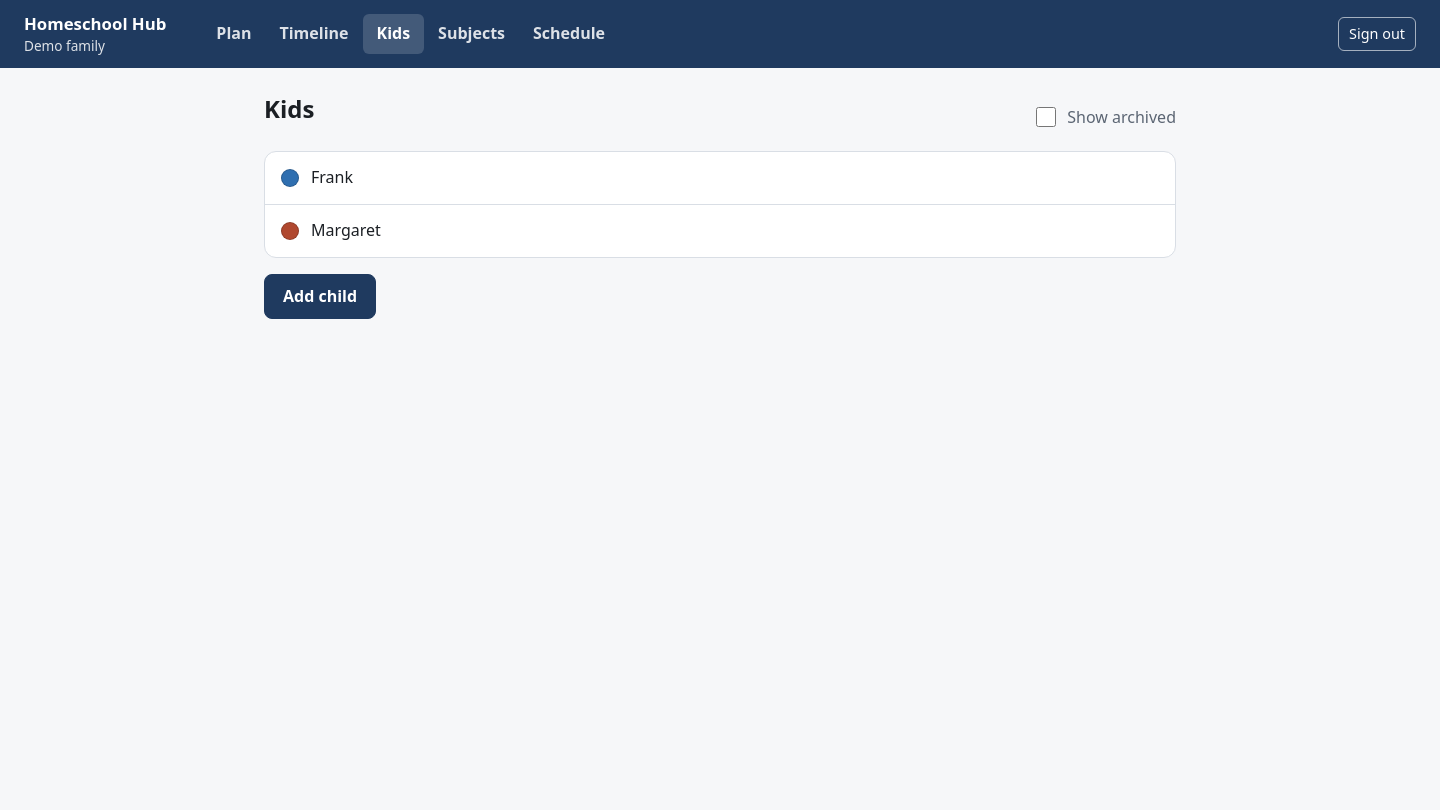
Test: Edit child › an archive failure is shown in the dialog and nothing changes
Expected: the list named "Kids" is shown, [264, 151, 1176, 258]
Click the button "Frank": (332, 177) [265, 152, 1175, 204]
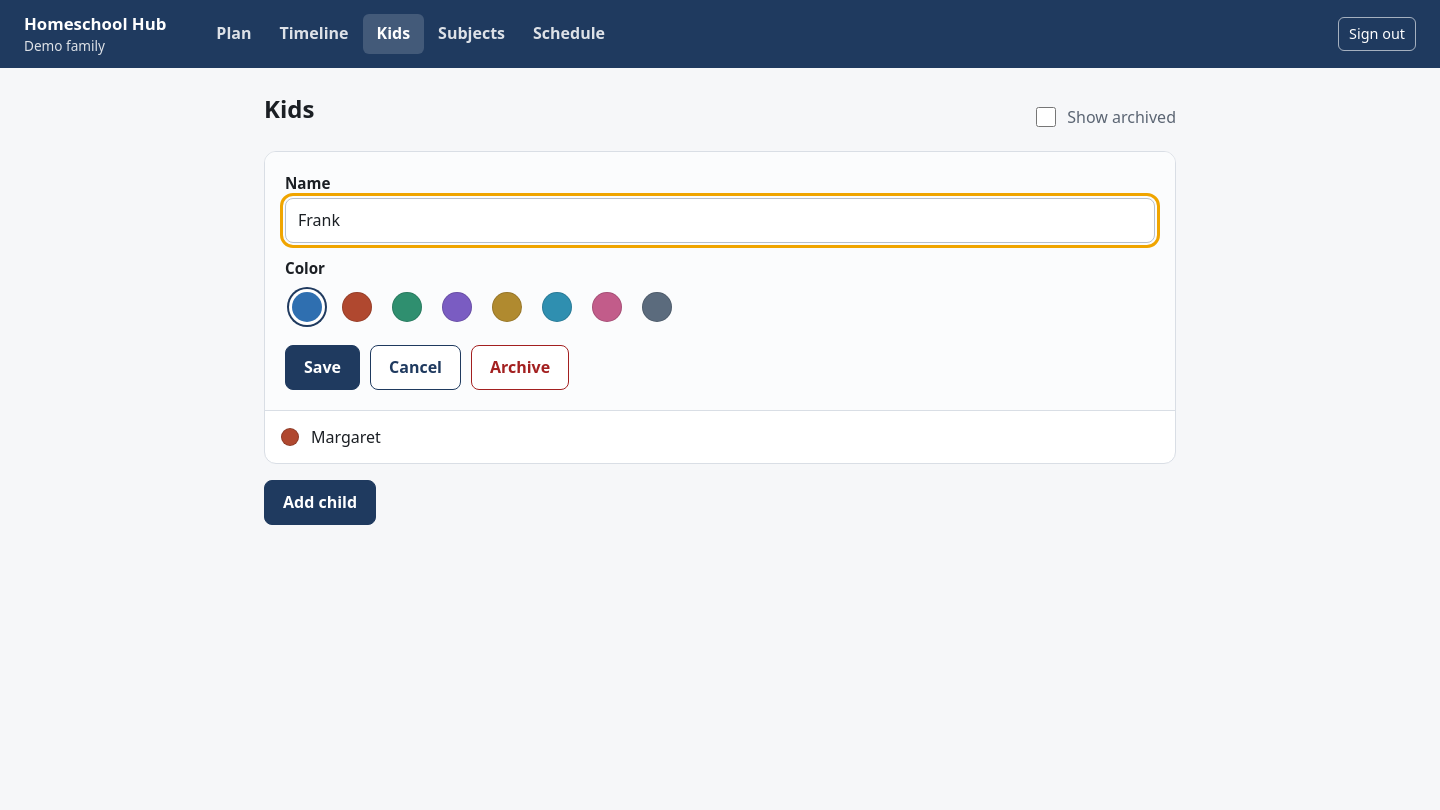
Click the button "Archive": (520, 368) [471, 345, 569, 390]
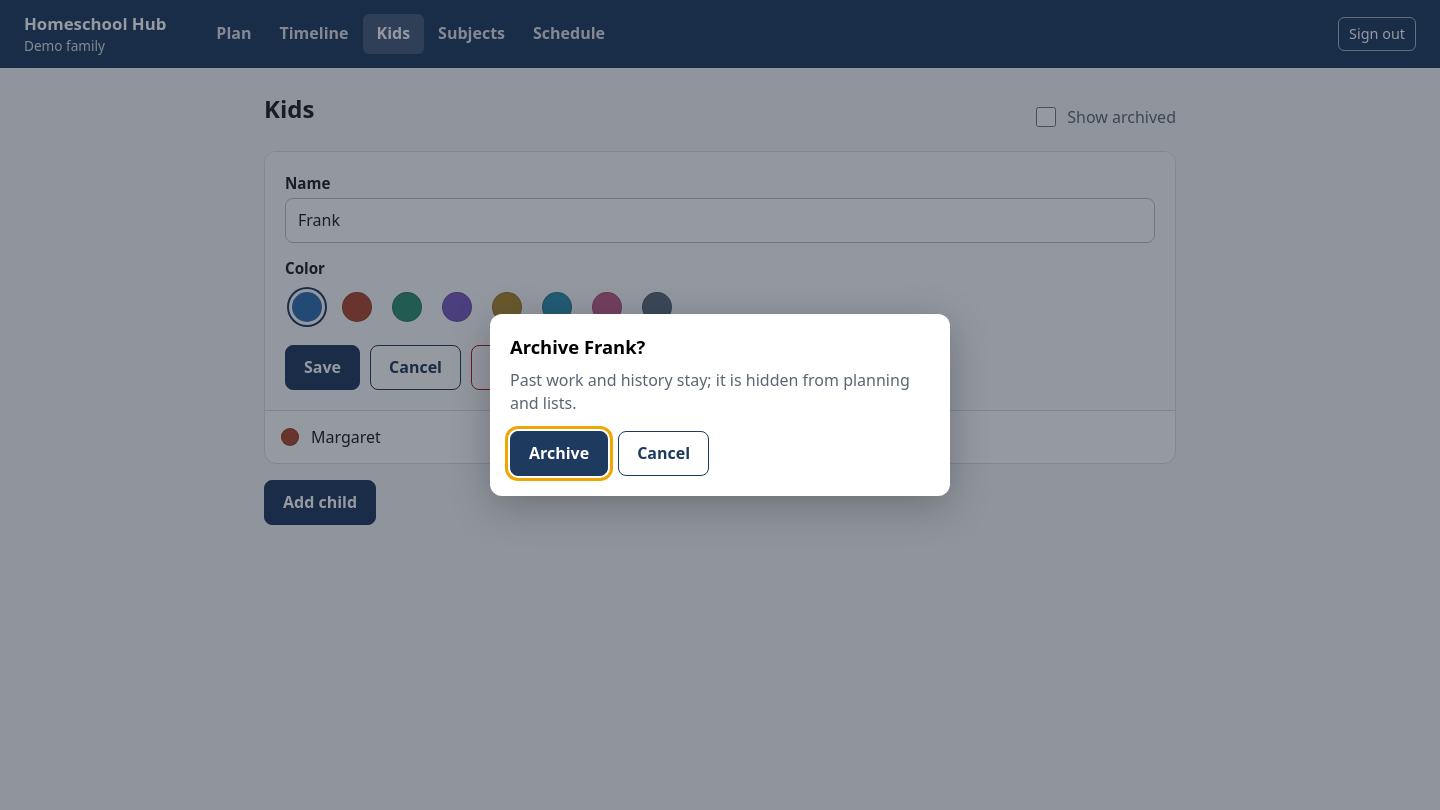
Click the button "Archive": (559, 454) [510, 431, 608, 476]
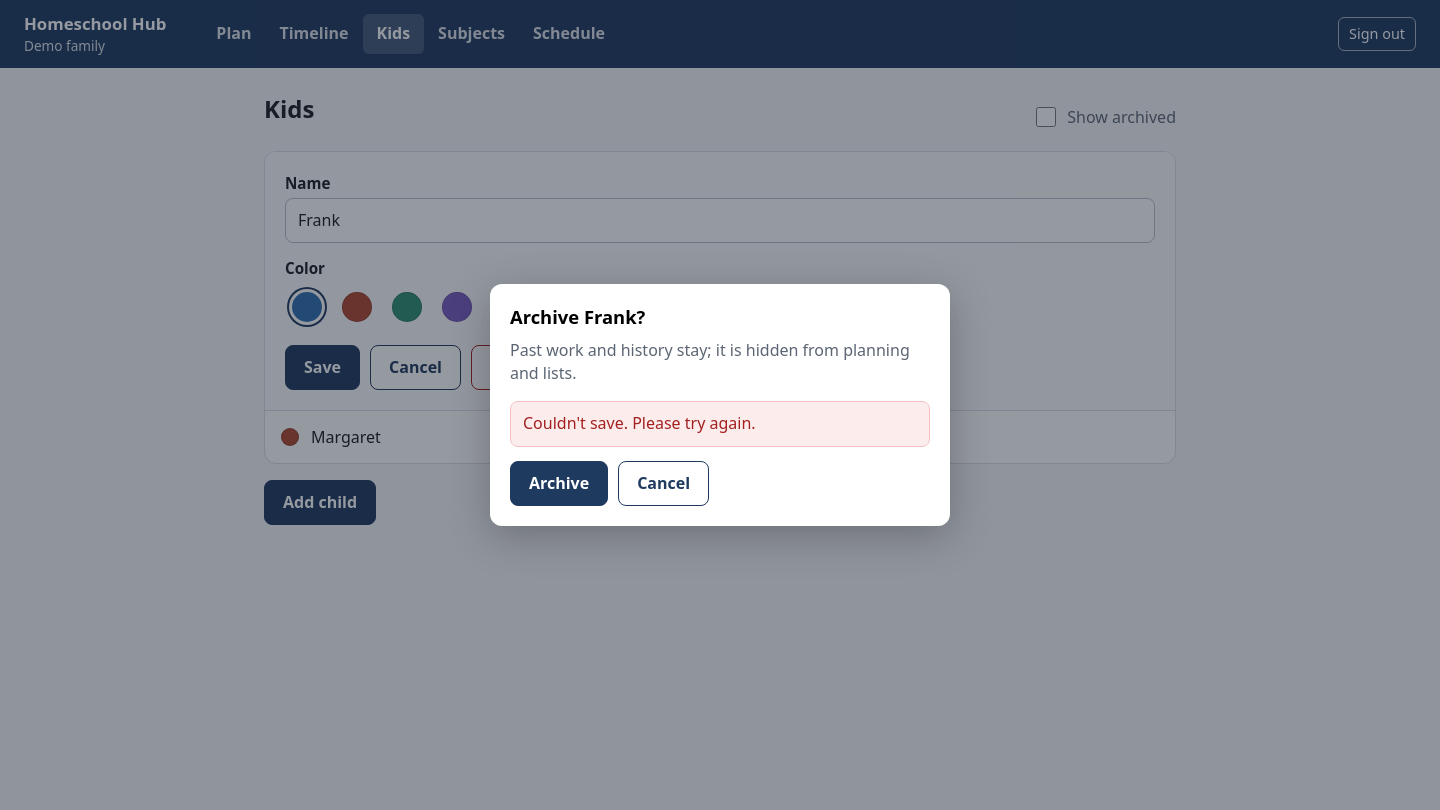
Result: the message reads "Couldn't save. Please try again." at [523, 412, 756, 434]
